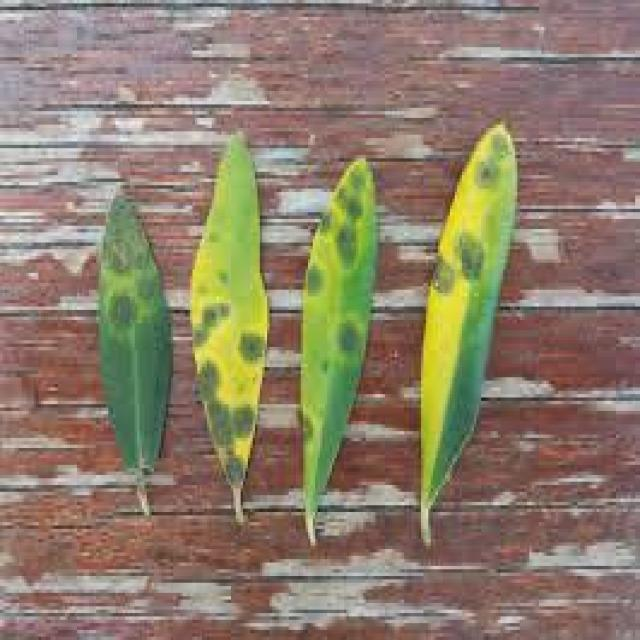OlivePeacockSpot: (419, 122, 515, 542), (192, 148, 268, 508), (303, 195, 375, 542), (101, 189, 171, 512)
